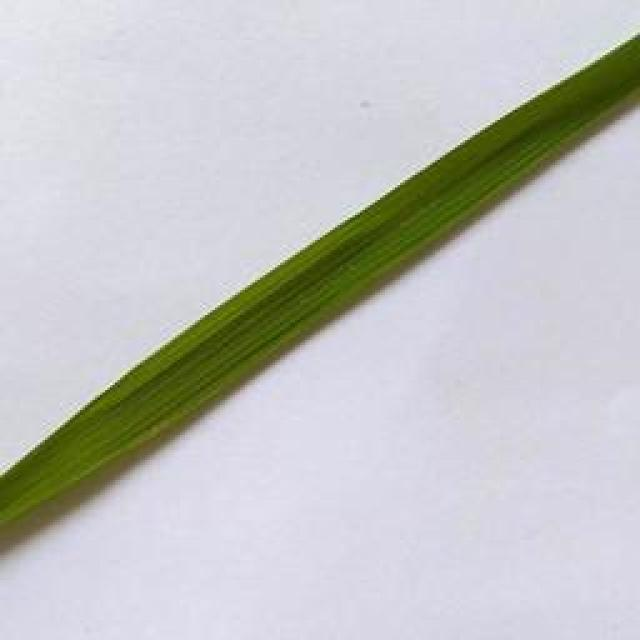Healthy-Plant: (0, 29, 640, 529)
